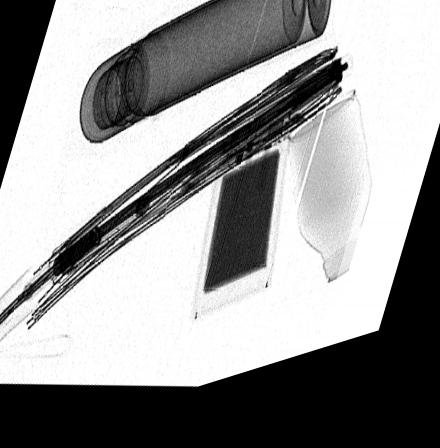Powerbank: (191, 128, 292, 333)
